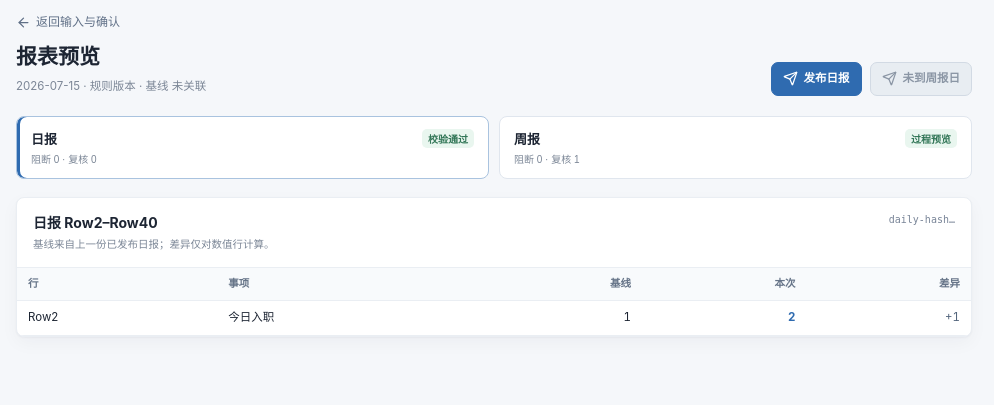
Scenario: RunPreviewPage › explains why a partial-week preview cannot be published
Expected: the button "未到周报日" is shown, [870,62,972,96]
Click the button with aria-label "周报预览": click(931, 138) [499,116,972,179]
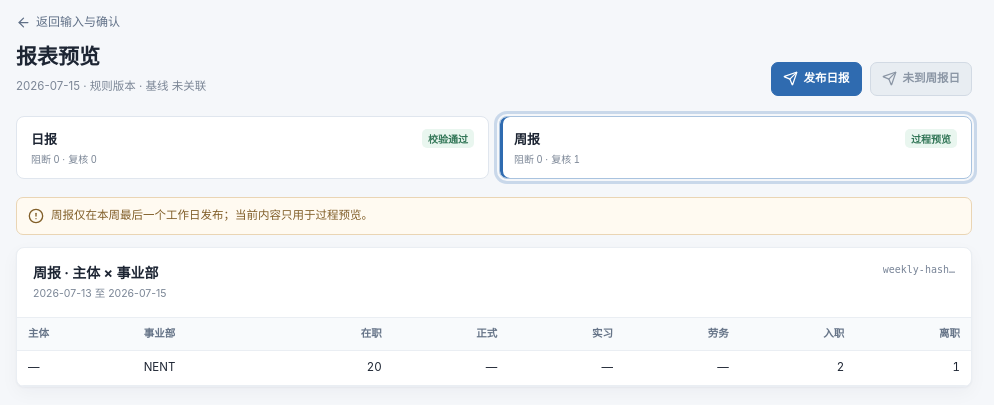
Expected: the text "过程预览" is shown, [905,129,957,148]
Result: the message shows "周报仅在本周最后一个工作日发布" at [51,208,373,222]
